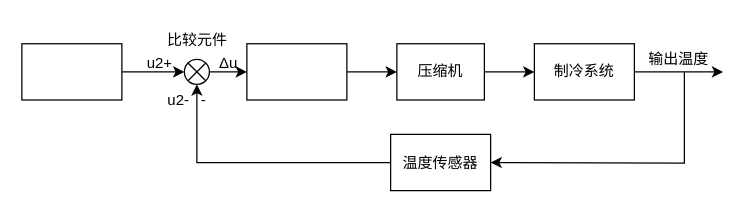
Some shapes in this 755 by 213 pixel diagram are drawn without their labels. The centre of each missing label's shape, as x and y in pixels:
"继电器" belongs at point (296, 71).
"设定温度 给定信号" belongs at point (71, 71).
